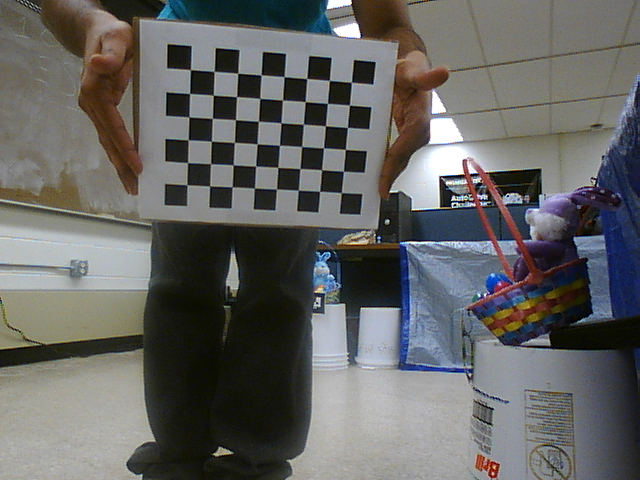bunny: (450, 148, 603, 357)
